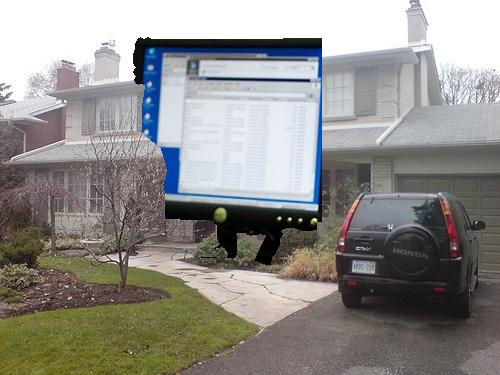tampered: (134, 38, 322, 265)
